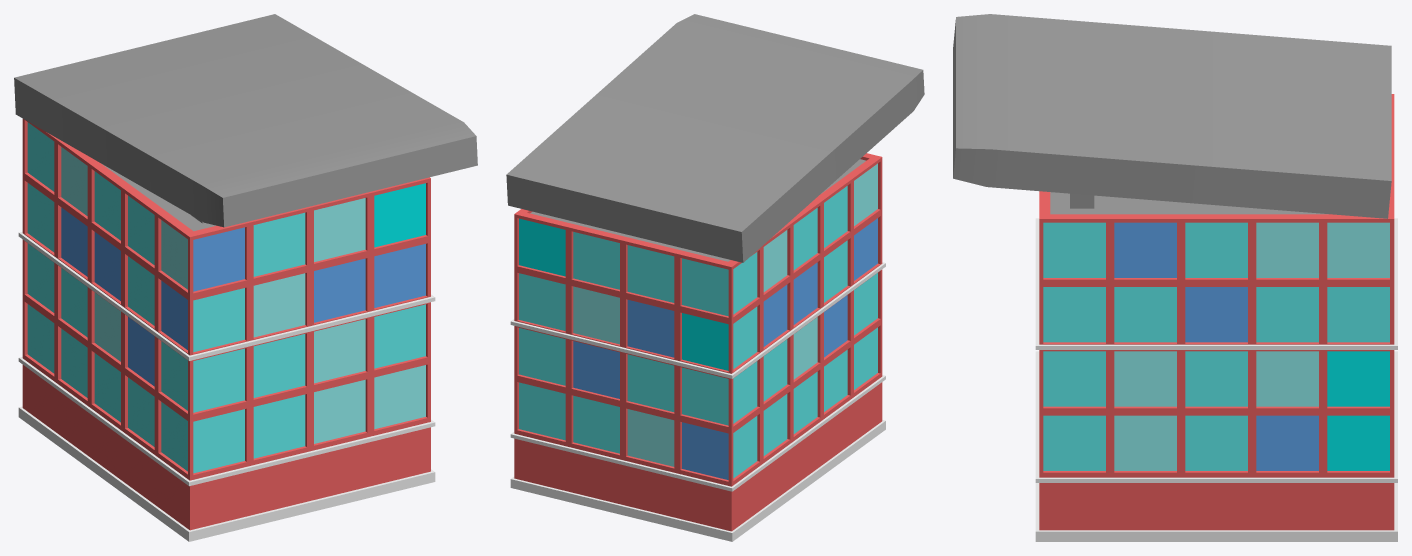
The model's file is SM_House_23_04.FBX.
The picture shows the model from 3 angles, left to right: view 1: azimuth 30°, elevation 25°; view 2: azimuth 150°, elevation 25°; view 3: azimuth 270°, elevation 25°; orthographic projection. The views are drawn at different scales.
Parts seen in each view (by area): view 1: SM_House_23_04; view 2: SM_House_23_04; view 3: SM_House_23_04.
Boxes of the visible parts, x1,y1,x2,y2 form: SM_House_23_04: (14,14,477,541); SM_House_23_04: (506,14,924,541); SM_House_23_04: (953,14,1397,541).
Size of the model in its own units: 5.41 by 7.4 by 7.52.
Materials: 1 (1 with a texture image).
